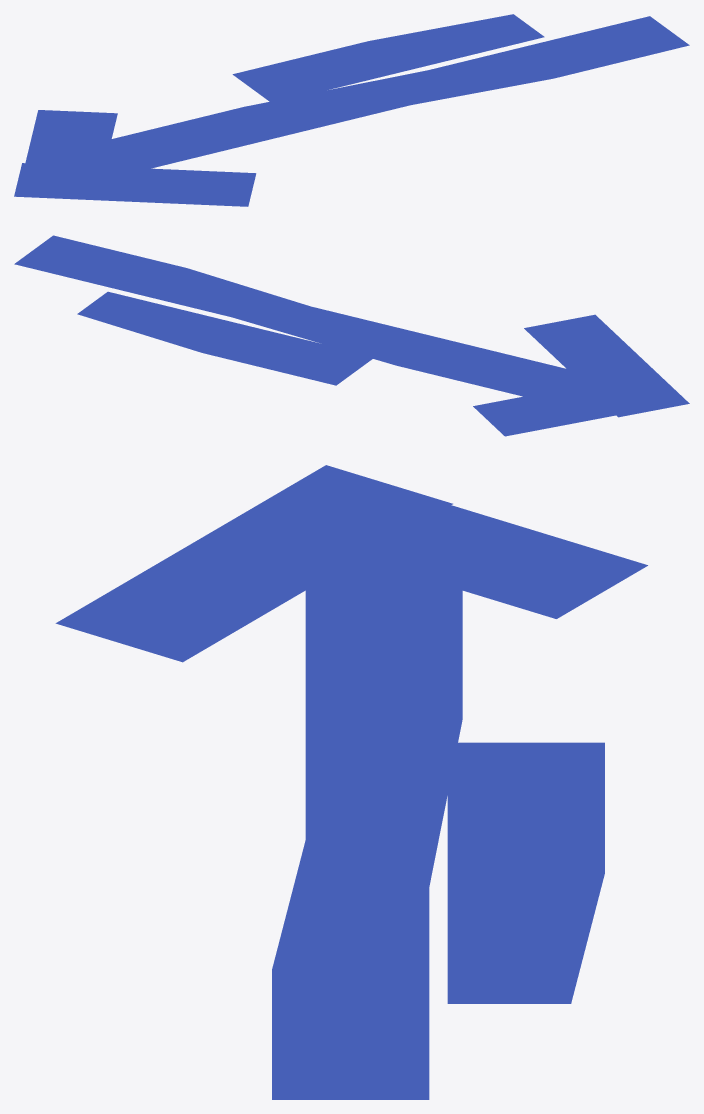
The model's file is big_arrow.fbx.
3 renders of one model, top to bottom at view 1: azimuth 30°, elevation 25°; view 2: azimuth 150°, elevation 25°; view 3: azimuth 270°, elevation 25°, orthographic. The views are drawn at different scales.
Parts seen in each view (by area): view 1: big_arrow; view 2: big_arrow; view 3: big_arrow.
Boxes of the visible parts, x1,y1,x2,y2 form: big_arrow: (14, 14, 689, 206); big_arrow: (14, 235, 689, 436); big_arrow: (55, 465, 647, 1099).
Size of the model in its own units: 13.13 by 5.19 by 0.0185.
